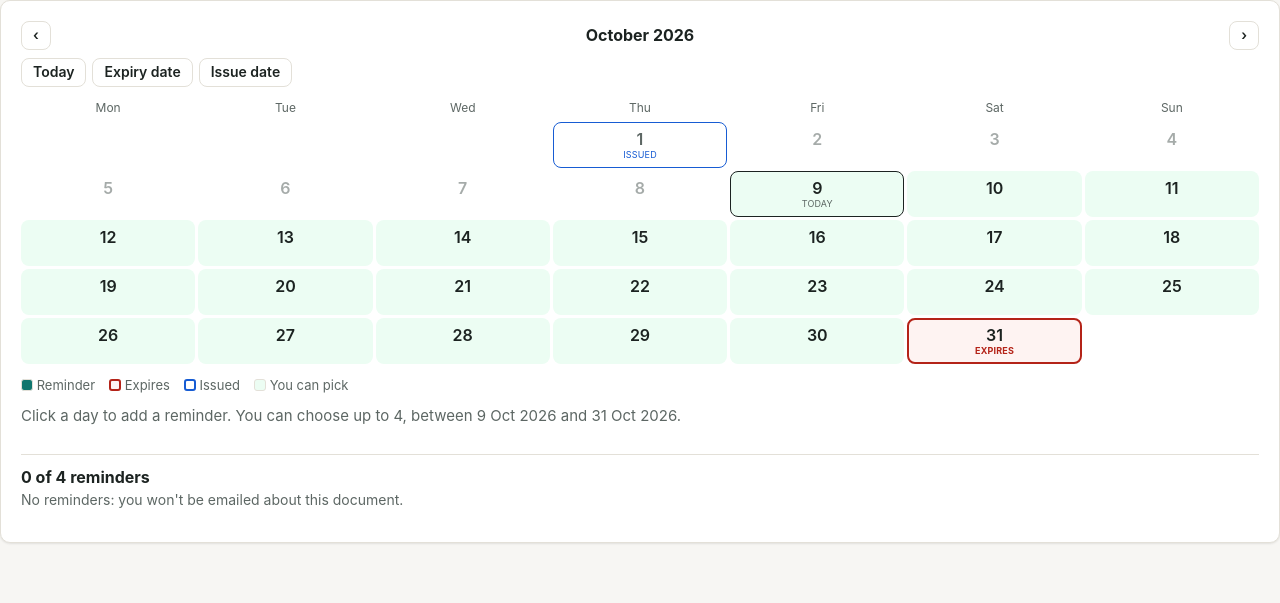
Scenario: ReminderCalendar: choosing days › adds a reminder when an allowed day is clicked, and tells the user
The width and height of the screenshot is (1280, 603).
What coordinates should you click on to do the following:
click the button named "Saturday, 24 October 2026"
I would click on:
 (995, 292)
Its box is left=907, top=269, right=1082, bottom=315.
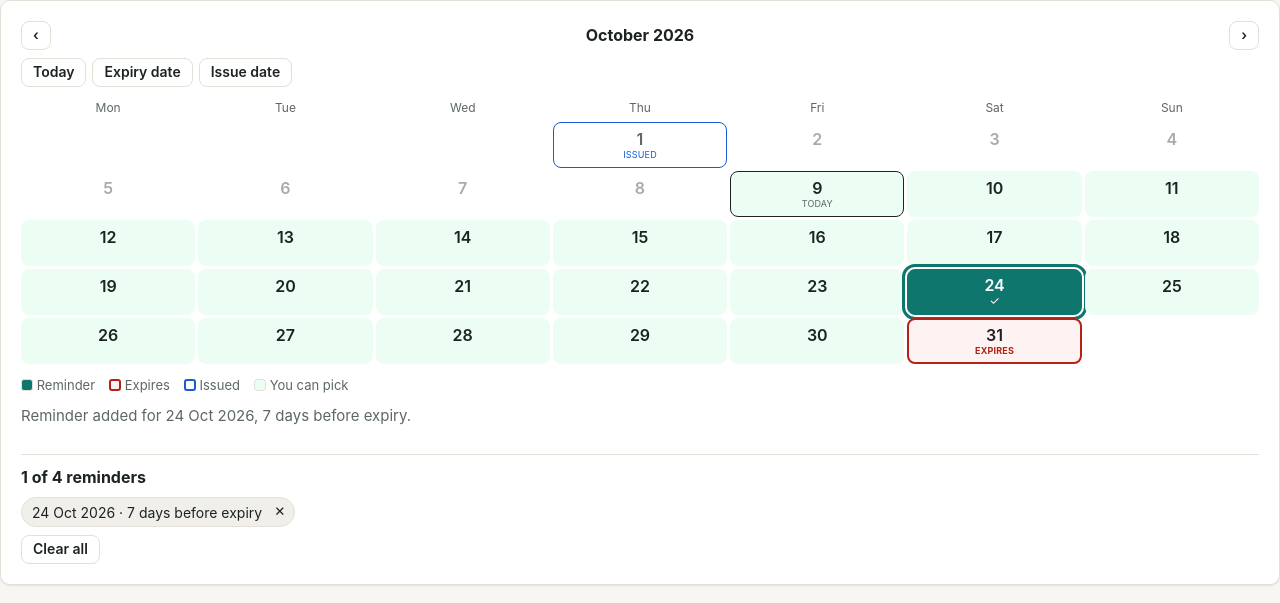
expect the message reads "Reminder added for 24 Oct 2026, 7 days before expiry.": met, box left=21, top=406, right=411, bottom=425
expect the text "1 of 4 reminders" is shown: met, box left=21, top=467, right=146, bottom=487
